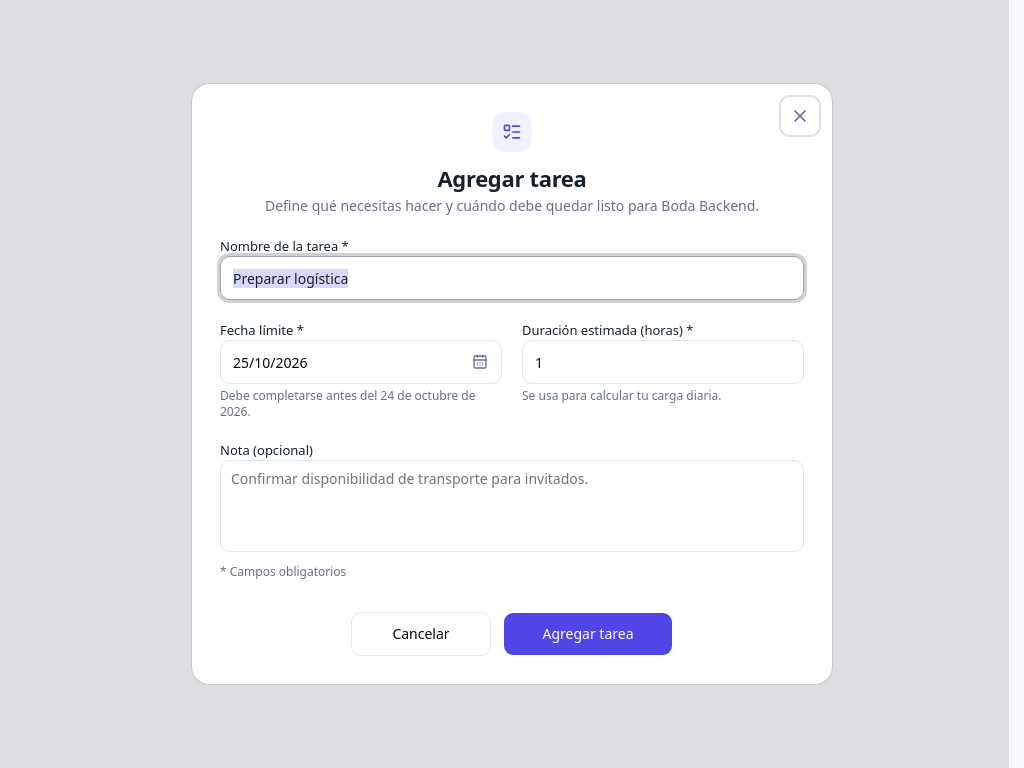
Test: AddSubtaskDialog › muestra el día del evento en Bogotá y rechaza el día siguiente recibido en UTC
Expected: the text "Debe completarse antes del 24 de octubre de 2026." is shown, [220,388,502,420]
Step 1. Click the button "Agregar tarea" → (588, 634), box [503,612,673,656]
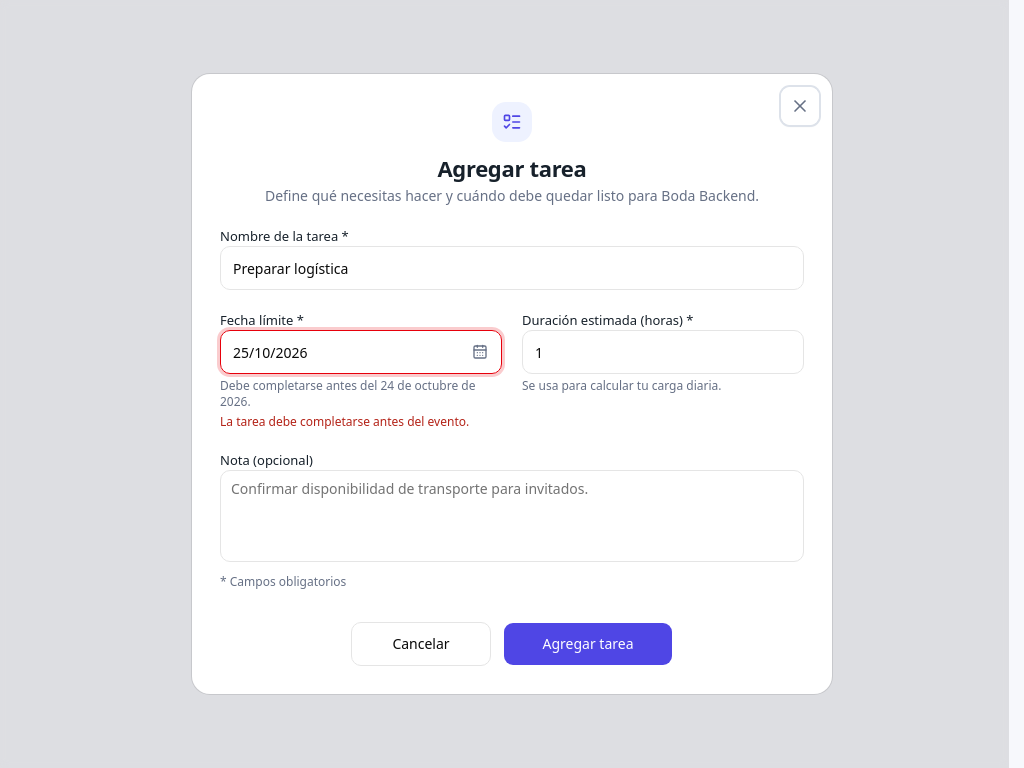
Expected: the text "La tarea debe completarse antes del evento." is shown, [220,414,502,430]
